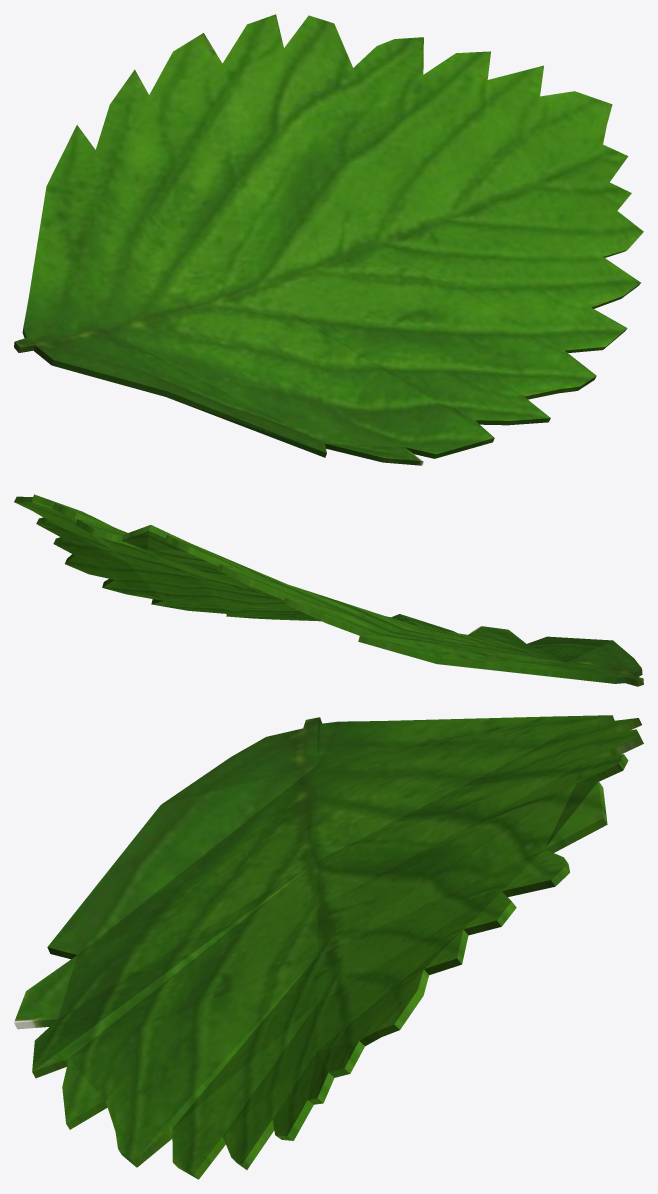
Rendered from leaf3_g2.dae.
3 views of the same model, one above another, from view 1: azimuth 30°, elevation 25°; view 2: azimuth 150°, elevation 25°; view 3: azimuth 270°, elevation 25° (orthographic). The views are drawn at different scales.
Parts seen in each view (by area): view 1: Plane; view 2: Plane; view 3: Plane.
Boxes of the visible parts, <box> form: Plane: <box>14,14,643,465</box>; Plane: <box>14,494,643,686</box>; Plane: <box>14,715,643,1179</box>.
Size of the model in its own units: 0.1376 by 0.0946 by 0.055.
Materials: 1 (1 with a texture image).
